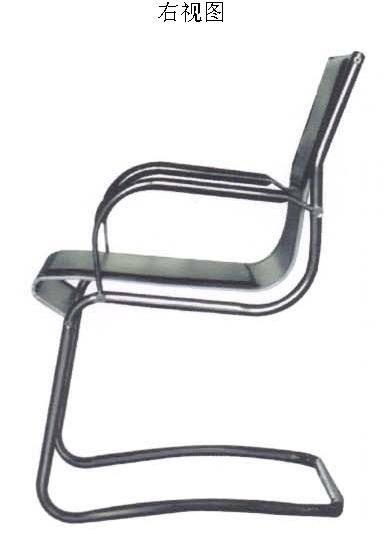obstacle: (33, 51, 363, 522)
